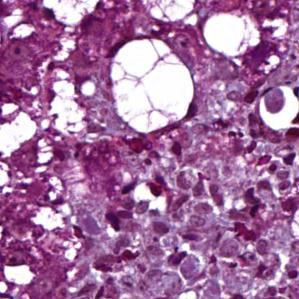ballooning: (106, 34, 198, 137), (41, 0, 100, 26), (141, 0, 198, 25)
